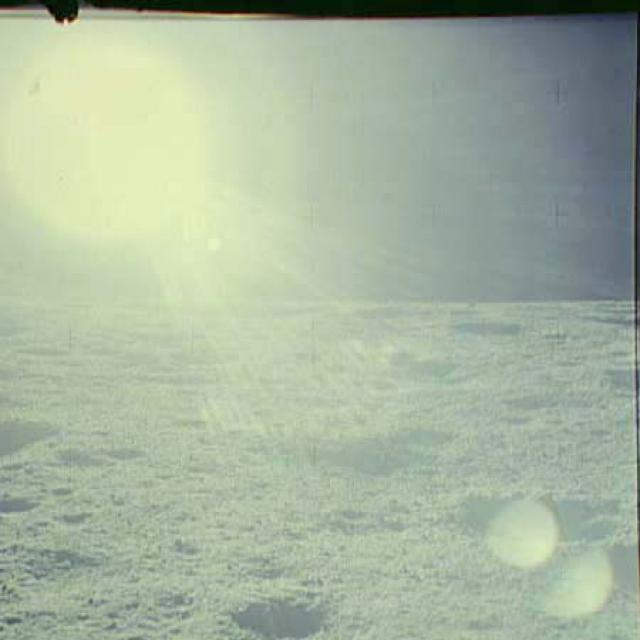crater: (447, 481, 639, 551), (288, 428, 476, 481), (213, 579, 373, 638), (0, 412, 93, 474), (498, 387, 610, 425), (0, 492, 65, 521)
